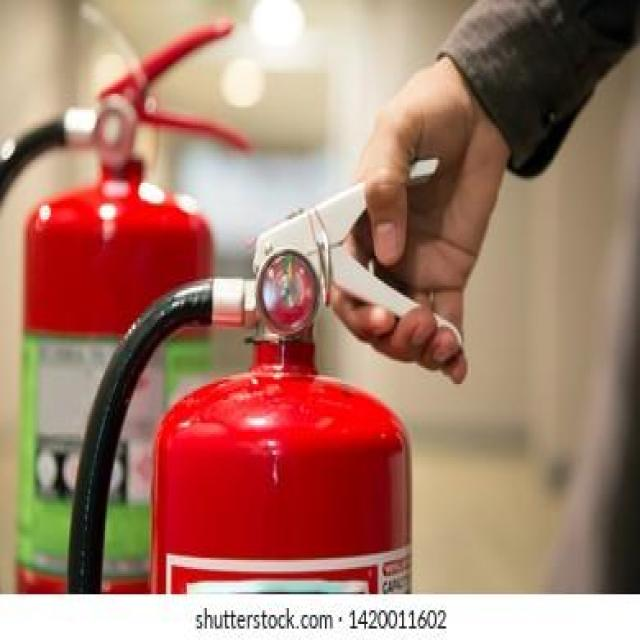fire_extinguisher: (61, 151, 464, 594), (0, 13, 256, 593)
